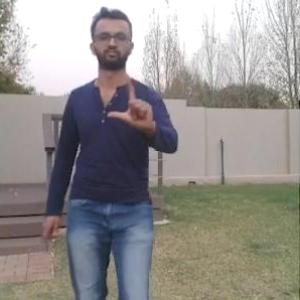land_hand: (105, 73, 161, 131)
